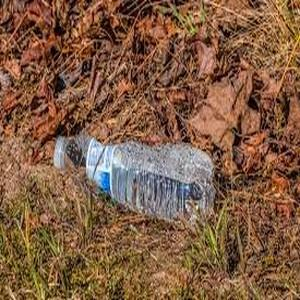Plastic: (49, 130, 219, 228)
